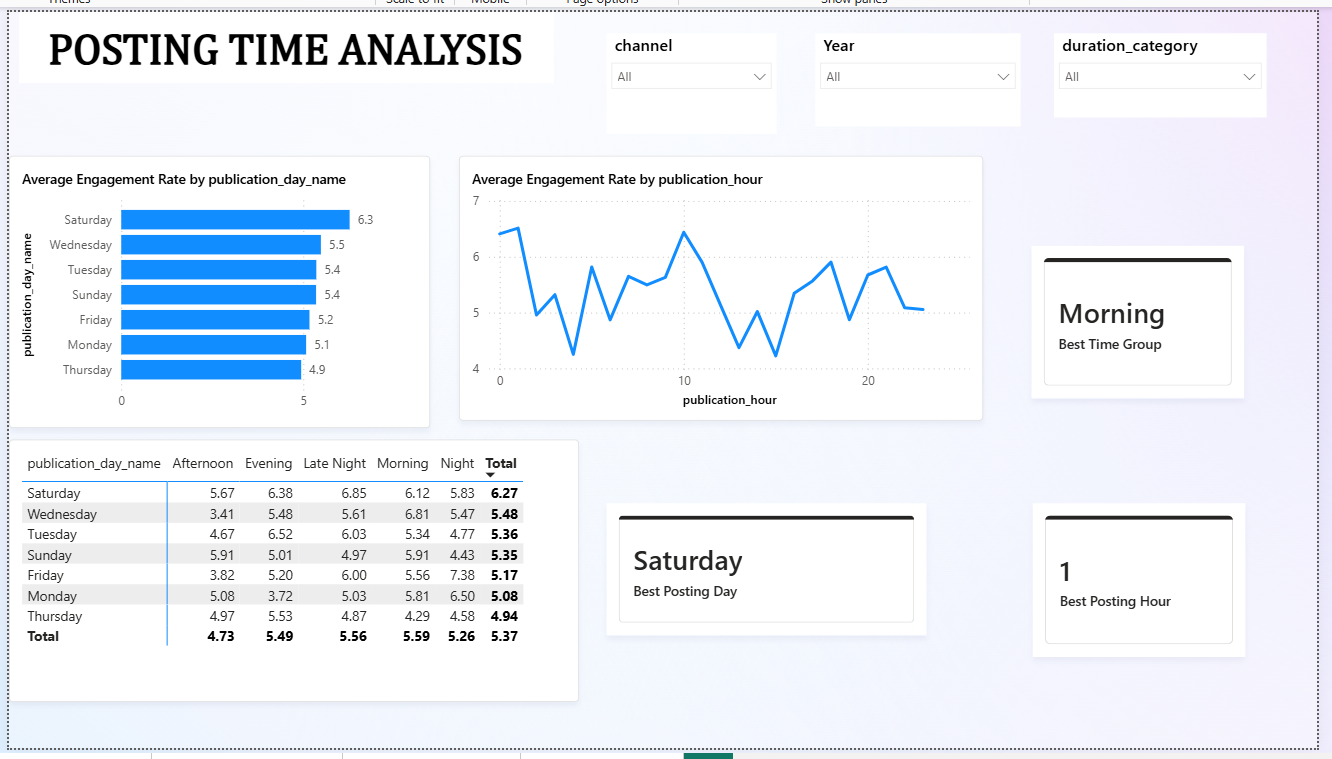

The dashboard page shown, as its layout file describes it:
{"tool":"powerbi","page":{"name":"Post-Time Analysis","canvas":[1280,720],"ordinal":2},"visuals":[{"type":"textbox","box":[10,0,523.1,69.8],"z":0},{"type":"slicer","fields":{"Values":["youtube_cleaned_data.channel_title"]},"box":[584.4,21.4,166.8,98.4],"z":1},{"type":"slicer","fields":{"Values":["DimDate.Year"]},"box":[788.2,21.4,201,91.2],"z":2},{"type":"slicer","fields":{"Values":["youtube_cleaned_data.duration_category"]},"box":[1022,21.4,208.1,82.7],"z":3},{"type":"barChart","fields":{"Y":["DimDate.Average Engagement Rate"],"Category":["youtube_cleaned_data.publication_day_name"]},"box":[0,141.1,411.9,266.5],"z":4},{"type":"lineChart","fields":{"Category":["youtube_cleaned_data.publication_hour"],"Y":["DimDate.Average Engagement Rate"]},"box":[440.4,141.1,513.1,259.4],"z":5},{"type":"pivotTable","fields":{"Rows":["youtube_cleaned_data.publication_day_name"],"Columns":["youtube_cleaned_data.posting_time_group"],"Values":["DimDate.Average Engagement Rate"]},"box":[0,417.6,557.3,256.6],"z":6},{"type":"cardVisual","fields":{"Data":["DimDate.Best Posting Day"]},"box":[584.4,480.4,313.6,129.7],"z":7},{"type":"cardVisual","fields":{"Data":["youtube_cleaned_data.Best Time Group"]},"box":[1000.6,228.1,208.1,149.7],"z":9},{"type":"cardVisual","fields":{"Data":["youtube_cleaned_data.Best Posting Hour"]},"box":[1001,480,208,150],"z":10}]}

Visuals, with their boxes on the page's 1280x720 design canvas (x1, y1, x2, y2). These are canvas units, not pixel positions in the 1332x759 screenshot, which may show the page scaled, cropped or inside an application window:
textbox: 10/0/533/70
slicer - youtube_cleaned_data.channel_title: 584/21/751/120
slicer - DimDate.Year: 788/21/989/113
slicer - youtube_cleaned_data.duration_category: 1022/21/1230/104
barChart - DimDate.Average Engagement Rate x youtube_cleaned_data.publication_day_name: 0/141/412/408
lineChart - youtube_cleaned_data.publication_hour x DimDate.Average Engagement Rate: 440/141/954/400
pivotTable - youtube_cleaned_data.publication_day_name x youtube_cleaned_data.posting_time_group: 0/418/557/674
cardVisual - DimDate.Best Posting Day: 584/480/898/610
cardVisual - youtube_cleaned_data.Best Time Group: 1001/228/1209/378
cardVisual - youtube_cleaned_data.Best Posting Hour: 1001/480/1209/630
